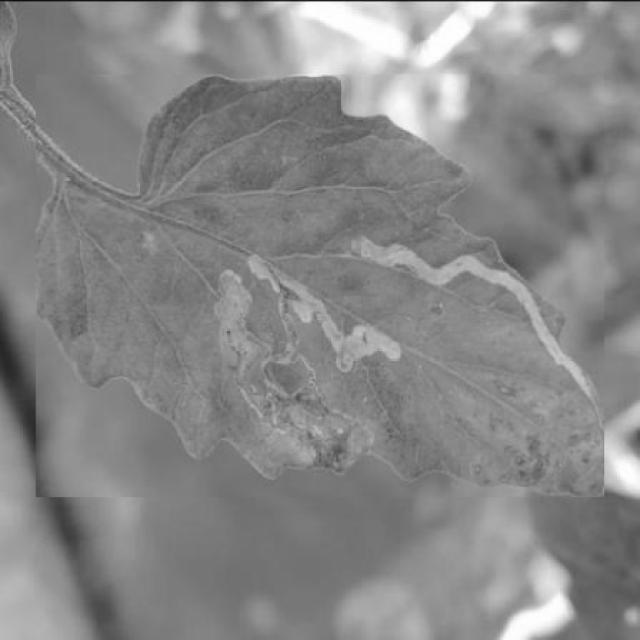Leaf Miner: (36, 75, 605, 498)
